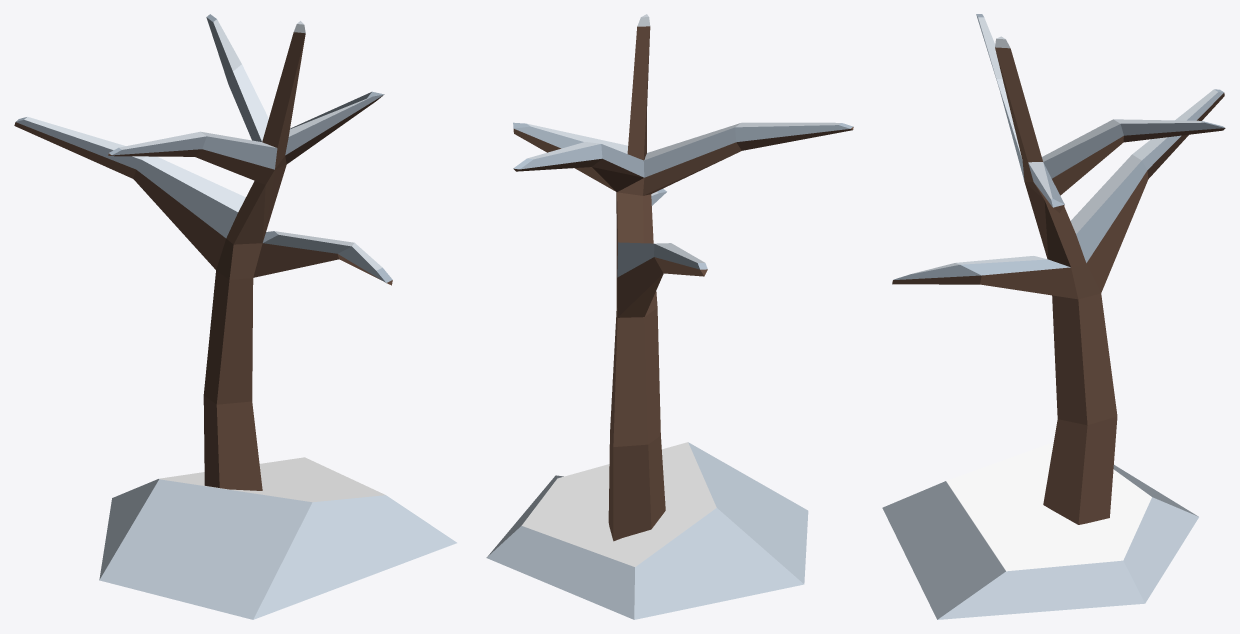
The model's file is TreeWinter7.fbx.
3 renders of one model, left to right at view 1: azimuth 30°, elevation 25°; view 2: azimuth 150°, elevation 25°; view 3: azimuth 270°, elevation 25°, orthographic. The views are drawn at different scales.
Visible parts, largest first — view 1: TreeWinter7; view 2: TreeWinter7; view 3: TreeWinter7.
Part boxes in pixels (bbox=[...]): TreeWinter7: bbox=[14, 14, 456, 619]; TreeWinter7: bbox=[486, 14, 853, 619]; TreeWinter7: bbox=[882, 14, 1225, 619].
Size of the model in its own units: 1.35 by 2.07 by 1.24.
